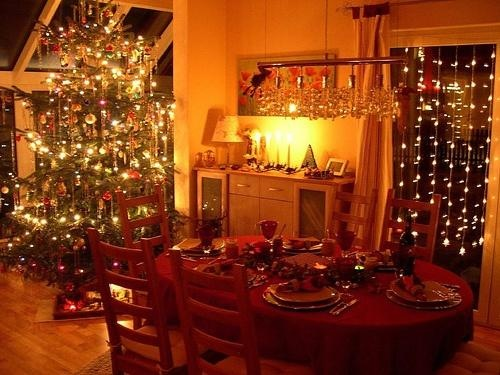bottle: (396, 212, 414, 277)
chair: (86, 227, 224, 375), (169, 248, 264, 375), (379, 186, 443, 264), (111, 182, 175, 257), (324, 184, 380, 250)
diningtable: (150, 238, 479, 373)
